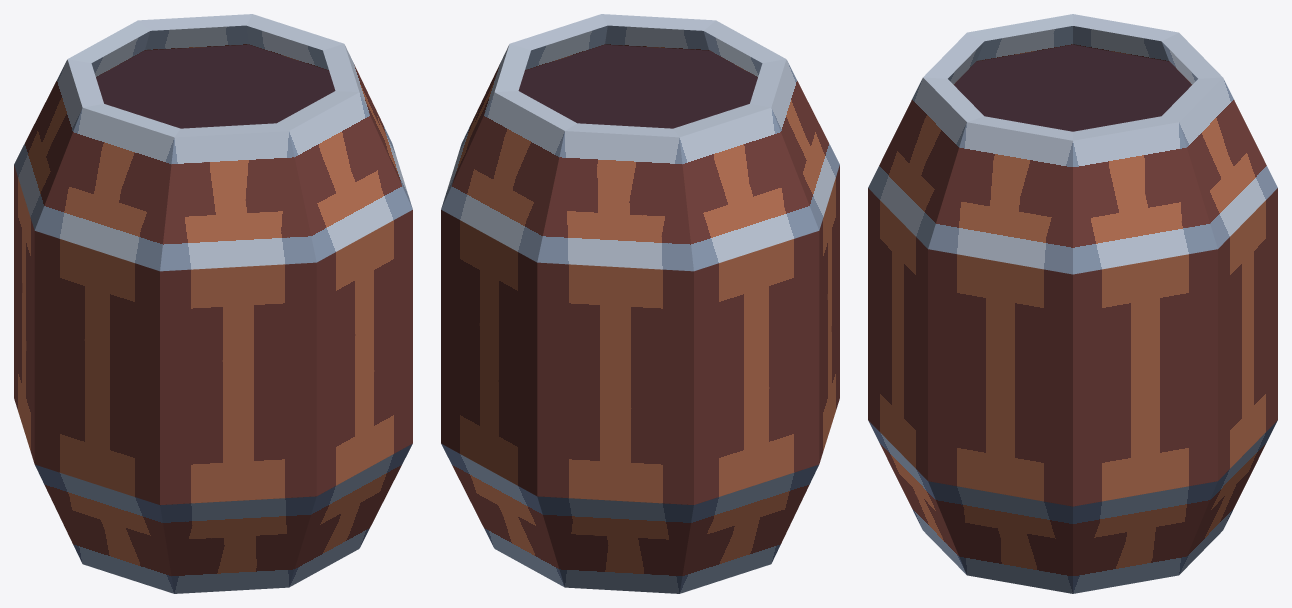
The model's file is barrel.glb.
The picture shows the model from 3 angles, left to right: view 1: azimuth 30°, elevation 25°; view 2: azimuth 150°, elevation 25°; view 3: azimuth 270°, elevation 25°; orthographic projection.
Visible parts, largest first — view 1: Barrel-col; view 2: Barrel-col; view 3: Barrel-col.
Part boxes in pixels (x1=…): Barrel-col: x1=14, y1=14, x2=412, y2=593; Barrel-col: x1=441, y1=14, x2=839, y2=593; Barrel-col: x1=868, y1=14, x2=1277, y2=593.
Size of the model in its own units: 0.8198 by 1 by 0.8198.
1 material, 1 textured.
